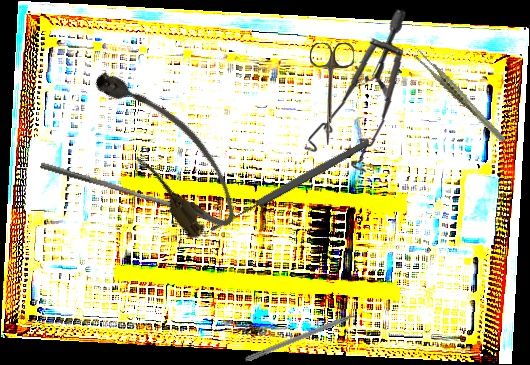Cannula: (82, 49, 250, 248)
Iris Scissors: (308, 42, 354, 146)
Pusher: (38, 161, 211, 221), (243, 305, 376, 364)
Speculum: (296, 8, 415, 176)
Surgical Spoon: (207, 137, 372, 235)
Tissue Forceps: (411, 36, 508, 157)
